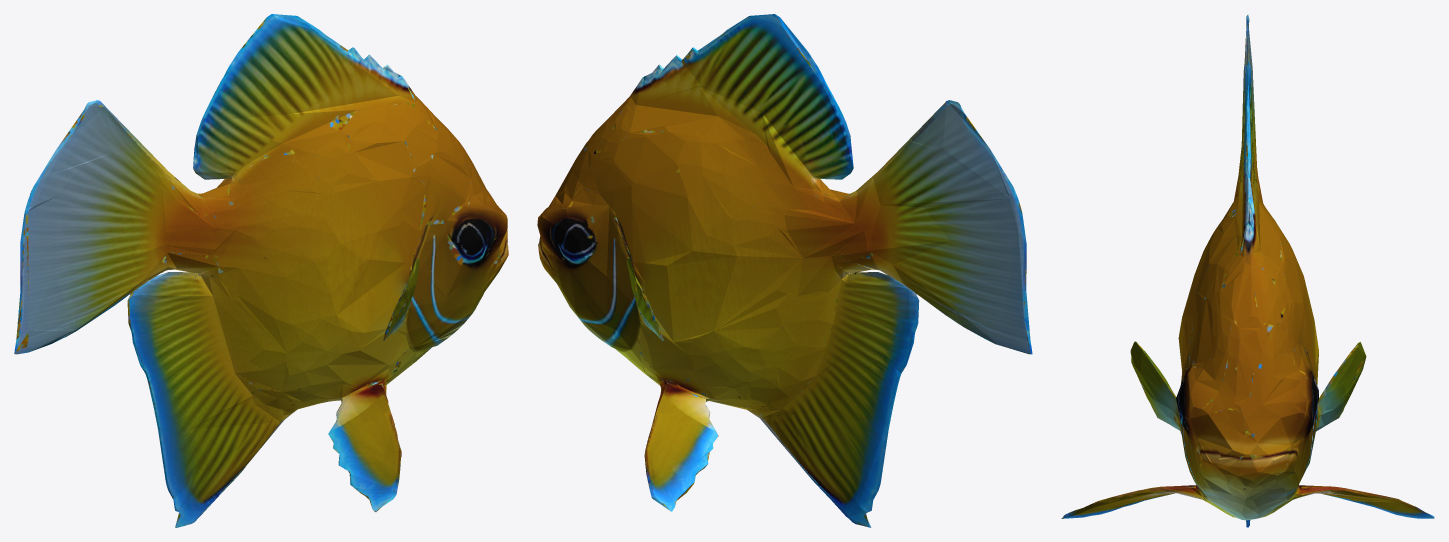
Rendered from fish_0046_smpl23_resized.glb.
3 views of the same model, side by side, from view 1: azimuth 30°, elevation 25°; view 2: azimuth 150°, elevation 25°; view 3: azimuth 270°, elevation 25° (orthographic). The views are drawn at different scales.
Parts seen in each view (by area): view 1: world; view 2: world; view 3: world.
Part boxes in pixels (x1,y1,x2,y2): world: (14, 14, 508, 527); world: (537, 14, 1032, 527); world: (1061, 14, 1434, 527).
Size of the model in its own units: 1.99 by 1.91 by 1.27.
Materials: 1 (1 with a texture image).
